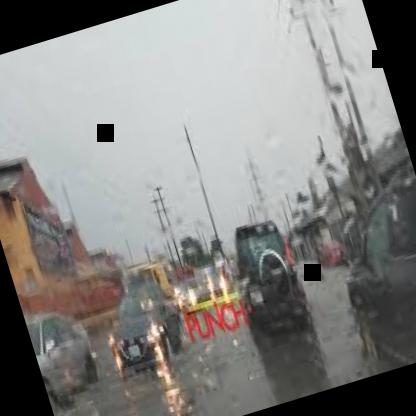car: (303, 146, 416, 377), (198, 190, 330, 363), (113, 257, 195, 368)
